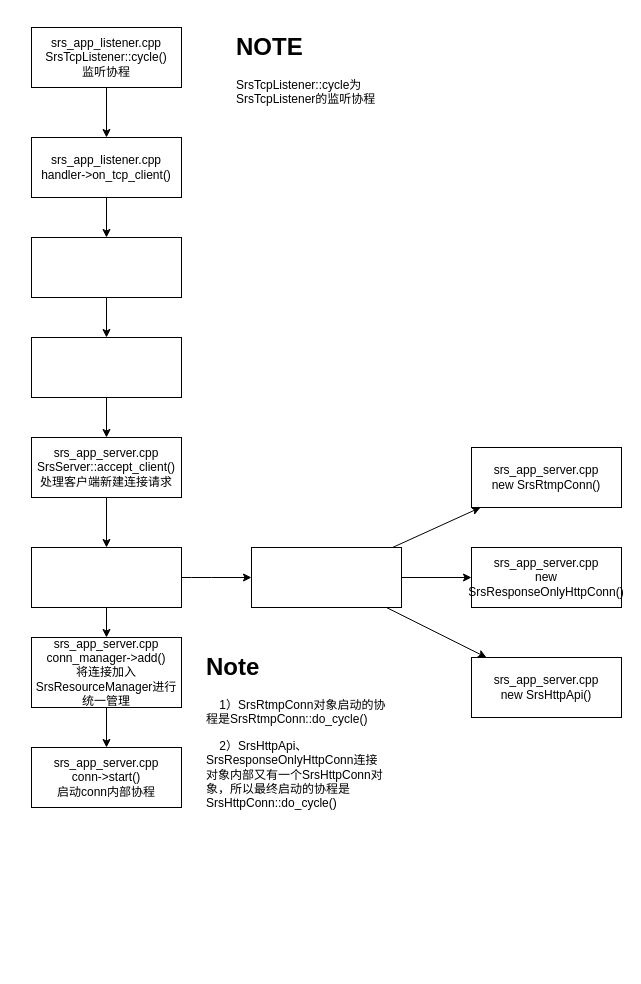
Some shapes in this 641 by 984 pixel diagram are drawn without their labels. The box of each missing label's shape, as (x1, y1, x2, y2) in pixels:
srs_app_server.cpp fd_to_resource(): (30, 546, 182, 608)
srs_app_server.cpp server->accept_client(): (30, 336, 182, 398)
srs_app_server.cpp SreServer::fd_to_resource() 根据客户端连接类型，创建不同的连接对象: (250, 546, 402, 608)
srs_app_server.cpp SrsBufferListener::on_tcp_client(): (30, 236, 182, 298)
